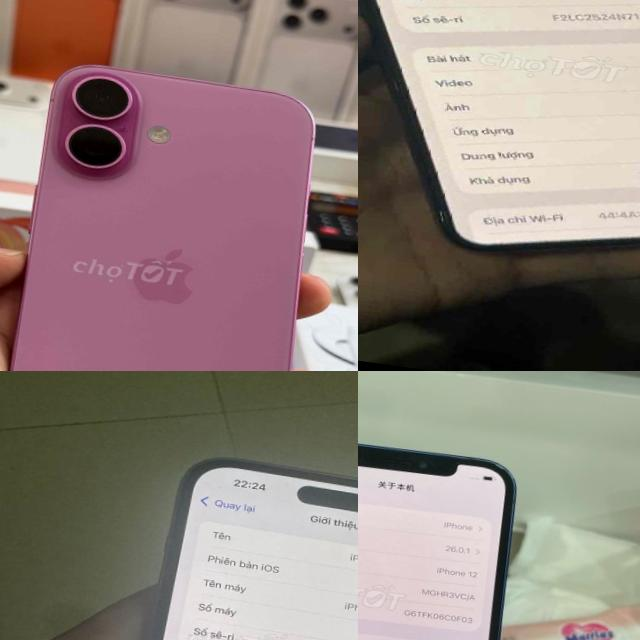gen_11: (358, 0, 640, 254)
gen_12_13: (358, 430, 536, 640)
gen_14: (84, 444, 358, 640)
gen_16: (0, 42, 350, 371)
